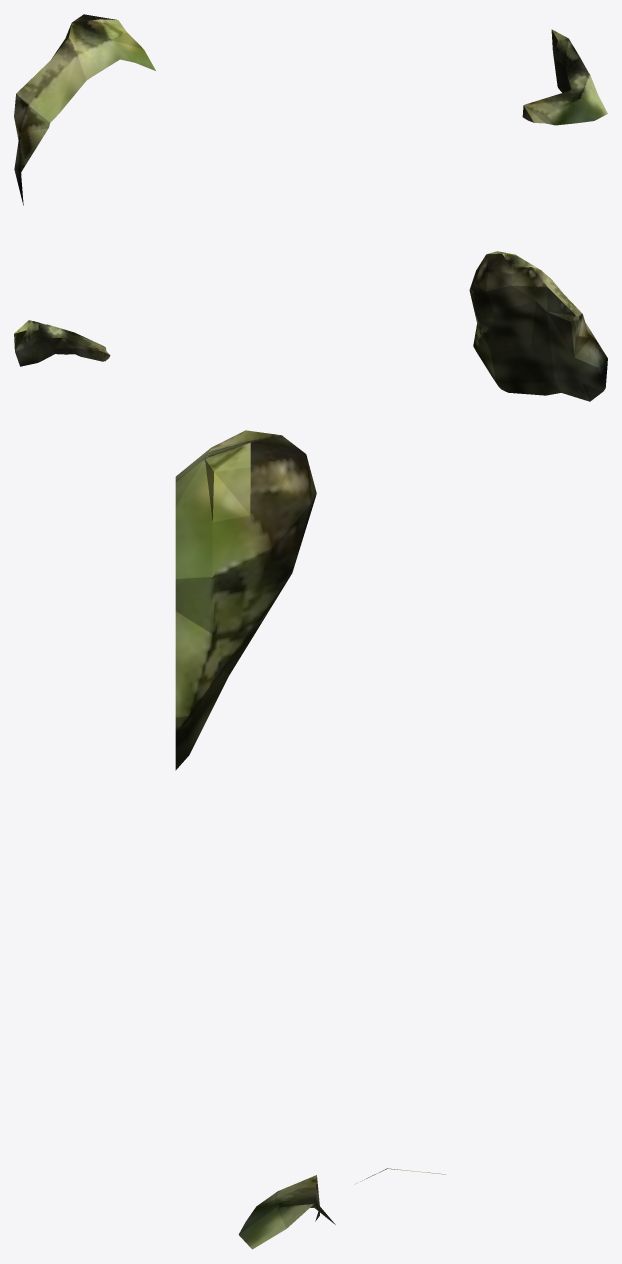
3 renders of one model, top to bottom at view 1: azimuth 30°, elevation 25°; view 2: azimuth 150°, elevation 25°; view 3: azimuth 270°, elevation 25°, orthographic. The views are drawn at different scales.
Bounding box in the file's own units: 0.7995 × 0.2745 × 0.1781.
Materials: 1 (1 with a texture image).
